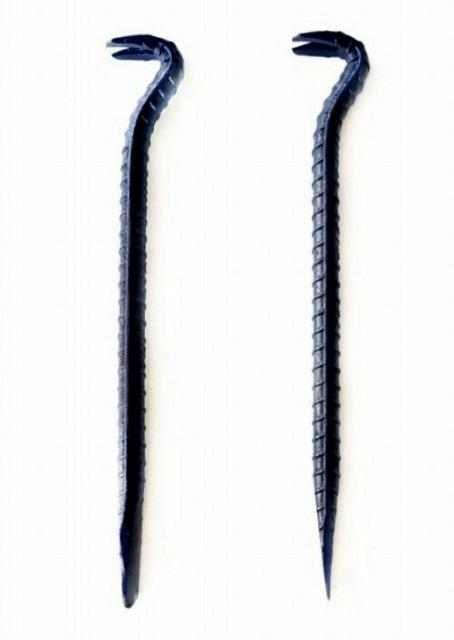crow bar: (276, 19, 380, 608), (92, 24, 178, 620)
